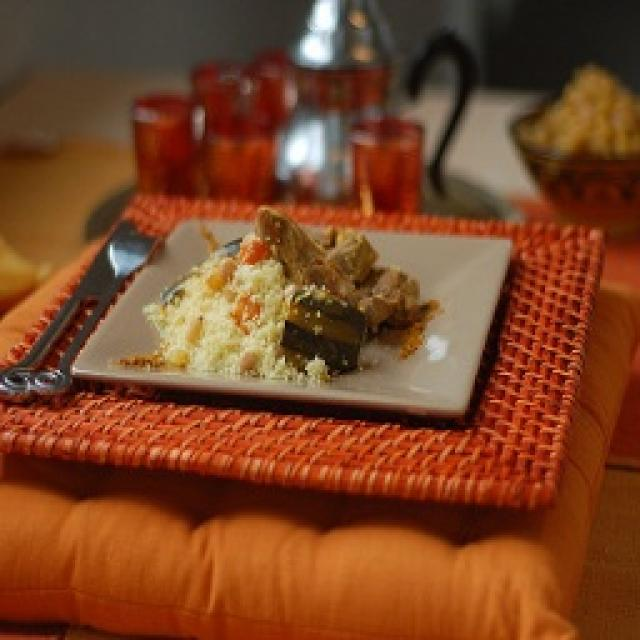Couscous: (119, 206, 439, 383)
